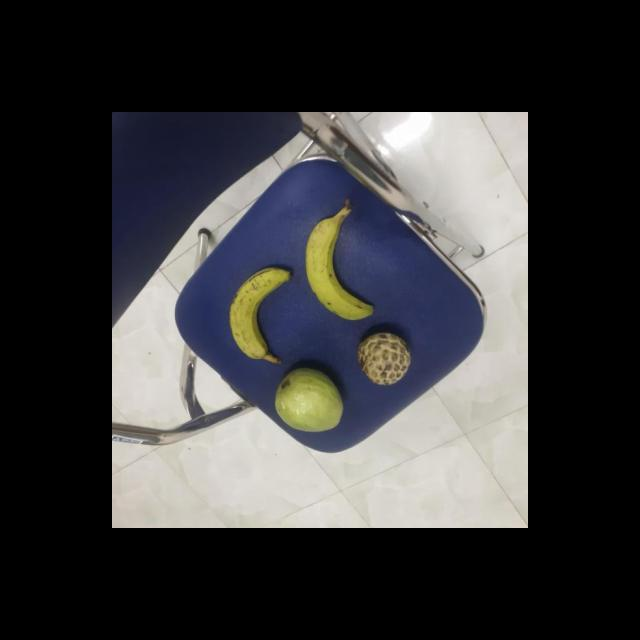Sakya fruit: (360, 332, 414, 386)
banana: (306, 212, 378, 322), (229, 269, 296, 363)
guava: (274, 366, 348, 432)
